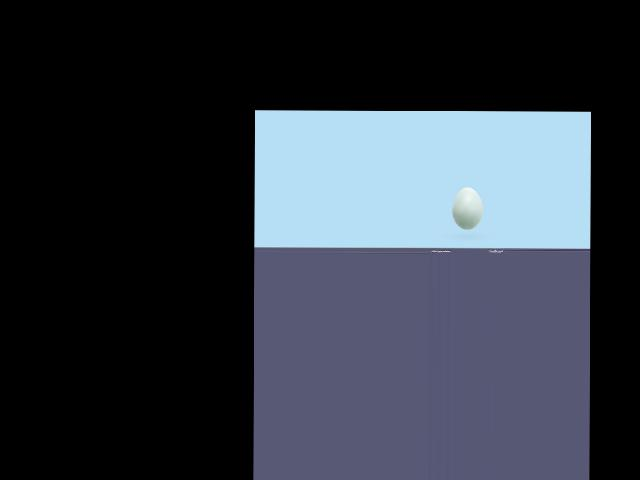egg: (451, 187, 482, 229)
